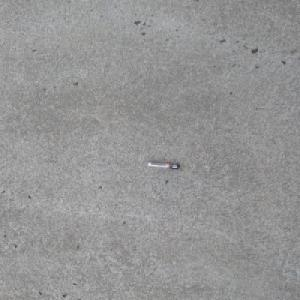Battery: (146, 161, 180, 169)
